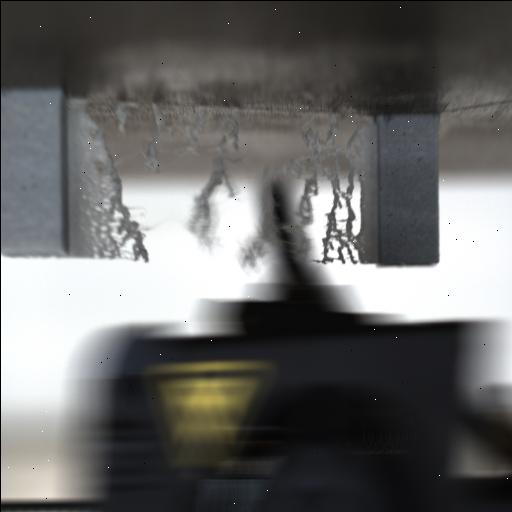stringing: (163, 105, 243, 257), (74, 108, 151, 262), (236, 163, 315, 277), (312, 160, 362, 265), (348, 115, 378, 264), (297, 112, 341, 184)
